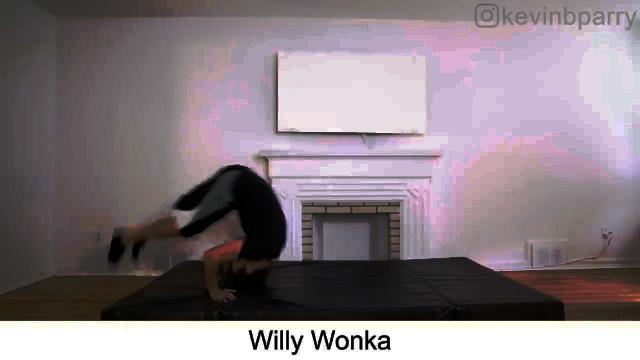jatuh: (87, 150, 296, 306)
